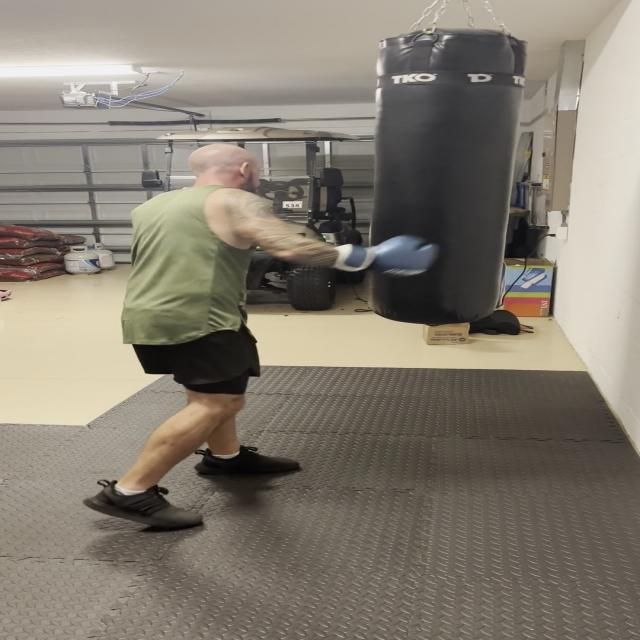punch: (135, 97, 449, 301)
